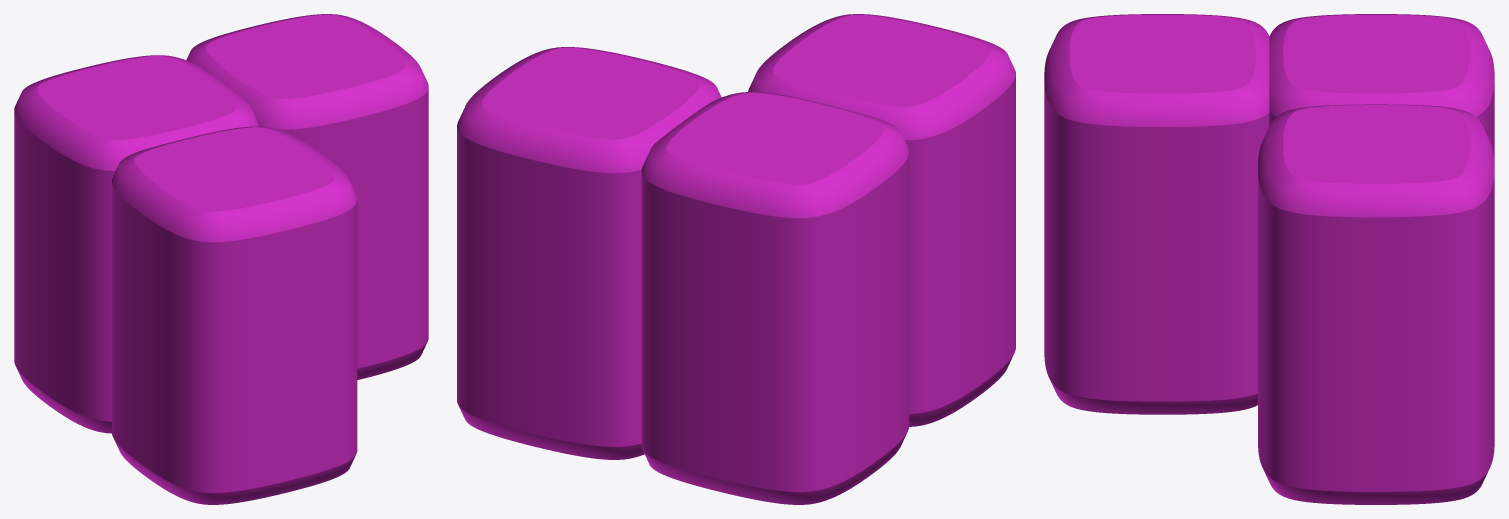
The model's file is Comma.fbx.
The picture shows the model from 3 angles, left to right: view 1: azimuth 30°, elevation 25°; view 2: azimuth 150°, elevation 25°; view 3: azimuth 270°, elevation 25°; orthographic projection. The views are drawn at different scales.
Visible parts, largest first — view 1: Comma; view 2: Comma; view 3: Comma.
Part boxes in pixels (x1,y1,x2,y2): Comma: (14,14,428,504); Comma: (457,14,1015,504); Comma: (1044,14,1494,504).
Size of the model in its own units: 0.1784 by 0.14 by 0.1784.
